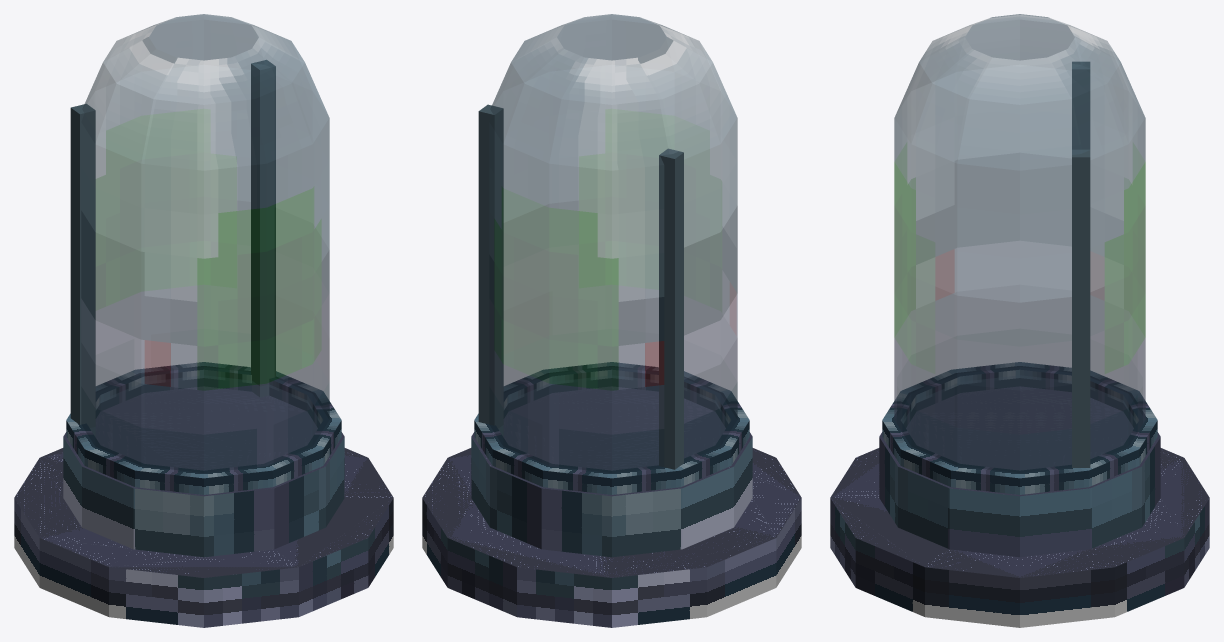
The model's file is cloning_pod_exhibit.glb.
3 renders of one model, left to right at view 1: azimuth 30°, elevation 25°; view 2: azimuth 150°, elevation 25°; view 3: azimuth 270°, elevation 25°, orthographic.
Visible parts, largest first — view 1: Exhibit_Glass, Exhibit_Base, Rear_Supports; view 2: Exhibit_Glass, Exhibit_Base, Rear_Supports; view 3: Exhibit_Glass, Exhibit_Base, Rear_Supports.
Boxes of the visible parts, box(x1,y1,x2,y2) form: Exhibit_Glass: box(81, 14, 329, 472); Exhibit_Base: box(14, 362, 393, 627); Rear_Supports: box(70, 60, 275, 436); Exhibit_Glass: box(489, 14, 737, 472); Exhibit_Base: box(422, 362, 801, 627); Rear_Supports: box(478, 104, 683, 469); Exhibit_Glass: box(894, 14, 1145, 472); Exhibit_Base: box(830, 362, 1209, 627); Rear_Supports: box(1072, 62, 1090, 467).
Bounding box in the file's own units: 1.24 × 1.84 × 1.24.
Materials: 2 (2 with a texture image).
